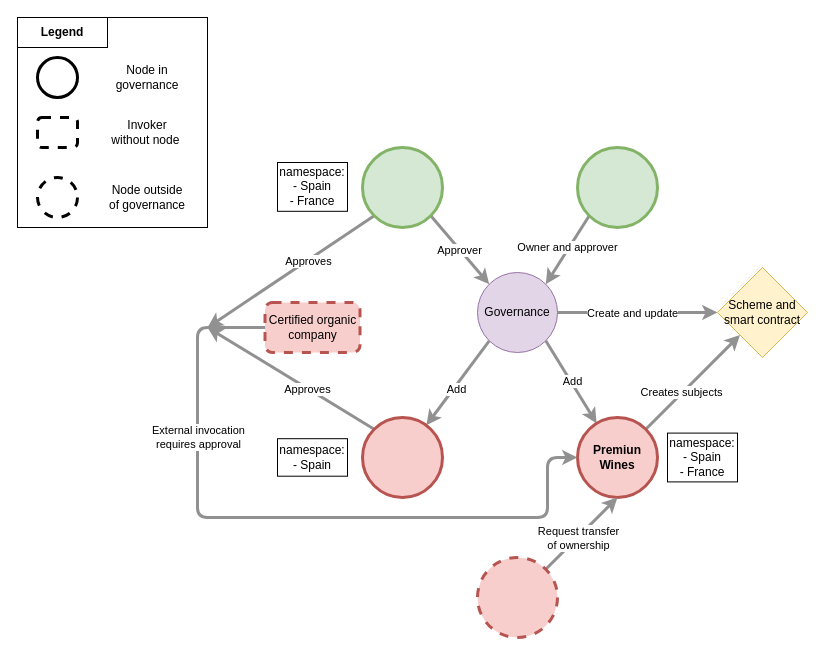
The diagram is 825 pixels wide and 656 high, and some of its shapes have lost their labels. Each missing label, with the centre of its shape:
Citizen: the point at 517,597
Spanish Food Organization SFO: the point at 402,457
Wine Producers Organization WPO: the point at 402,187
World Food Organization WFO: the point at 617,187
